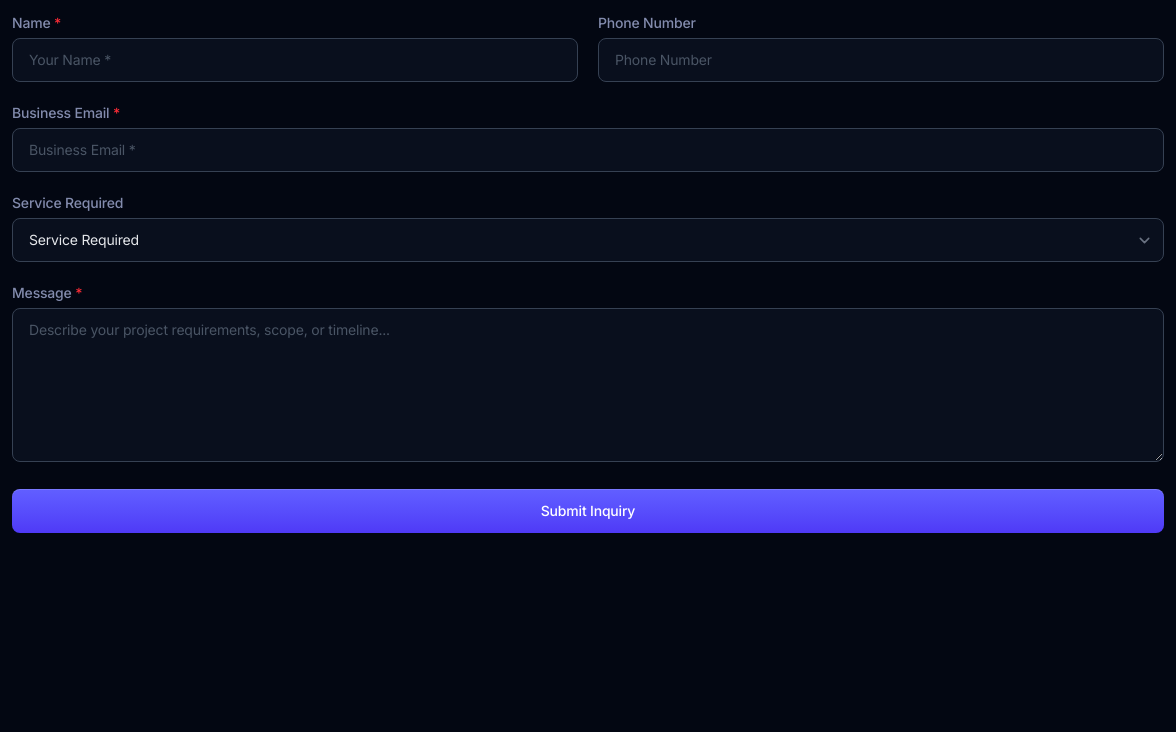
it: ContactForm › gửi hợp lệ: hiện câu cảm ơn, xoá form, không gọi alert
Type "Jane" into the field labelled "Name *" at (295, 60), box [12, 38, 578, 82]
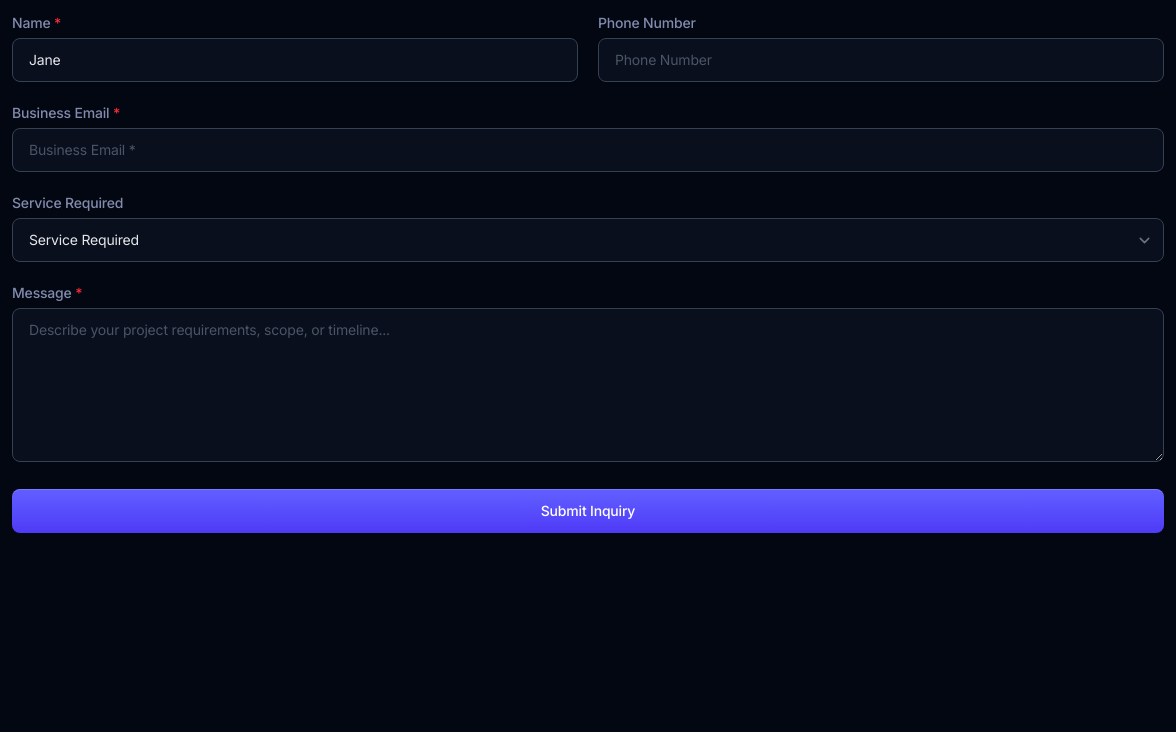
Type "+84 123" into the field labelled "Phone Number" at (881, 60), box [598, 38, 1164, 82]
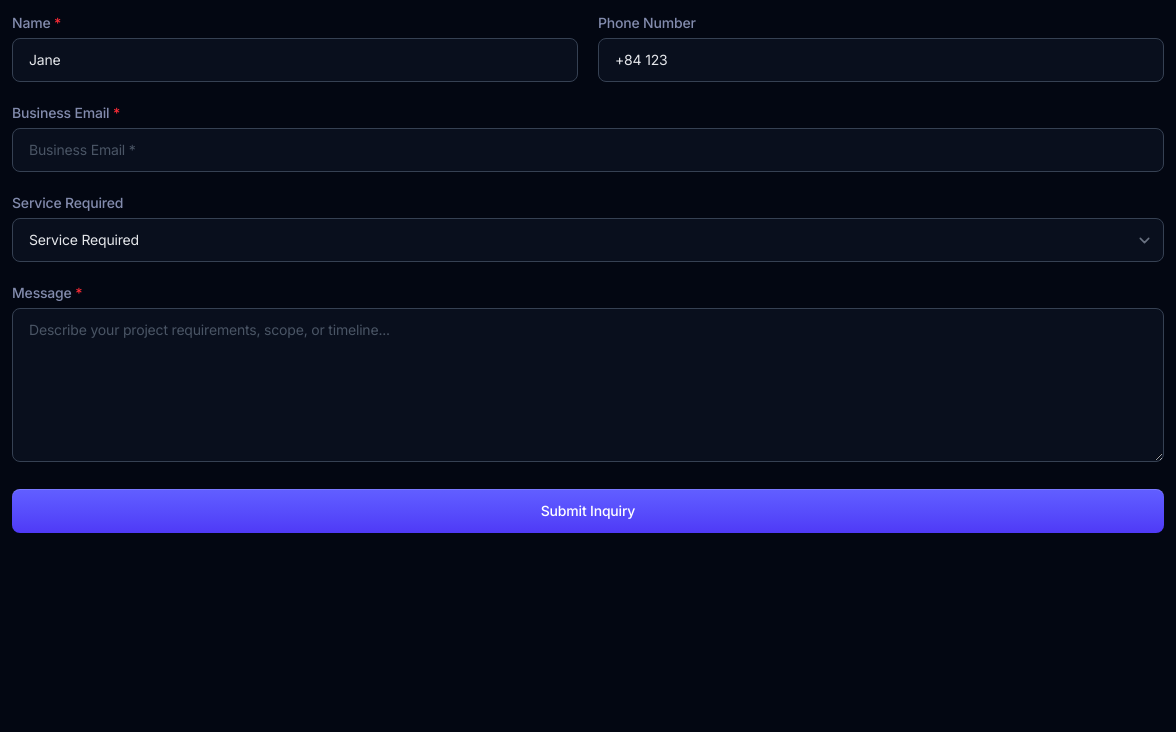
Type "jane@example.com" into the field labelled "Business Email *" at (588, 150), box [12, 128, 1164, 172]
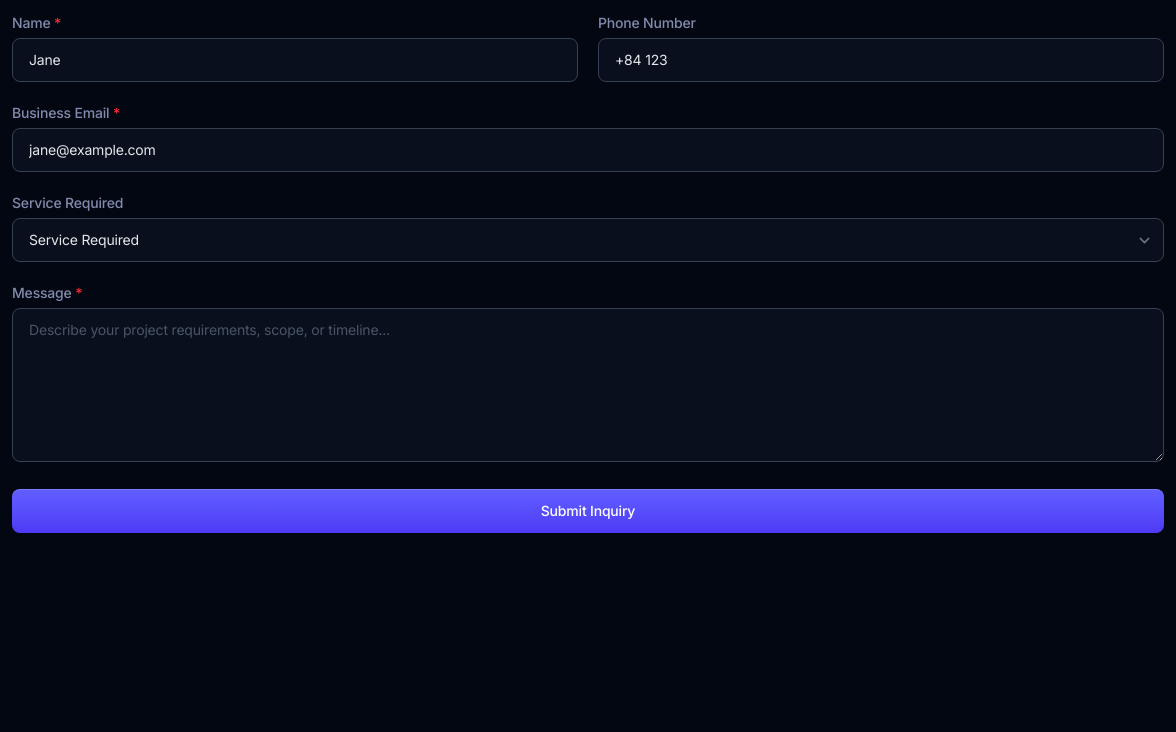
Select "Cloud Migration & DevOps" in the dropdown labelled "Service Required" at (588, 240), box [12, 218, 1164, 262]
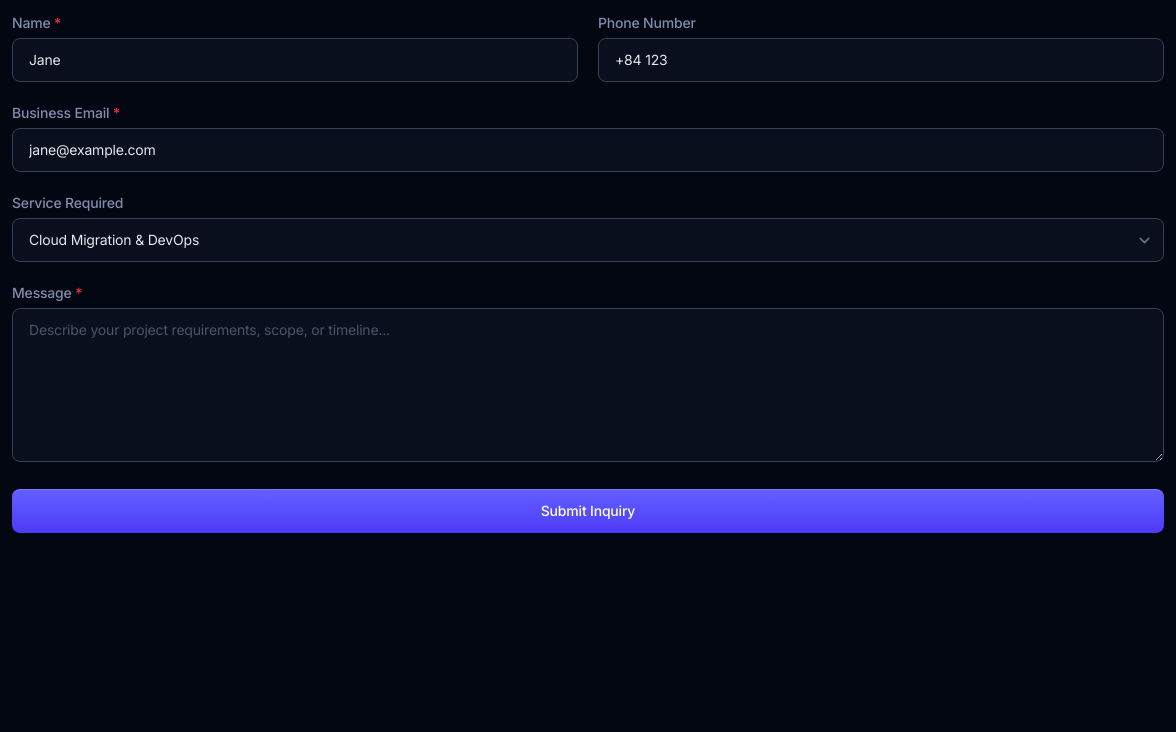
Type "Hello" into the text box labelled "Message *" at (588, 385), box [12, 308, 1164, 462]
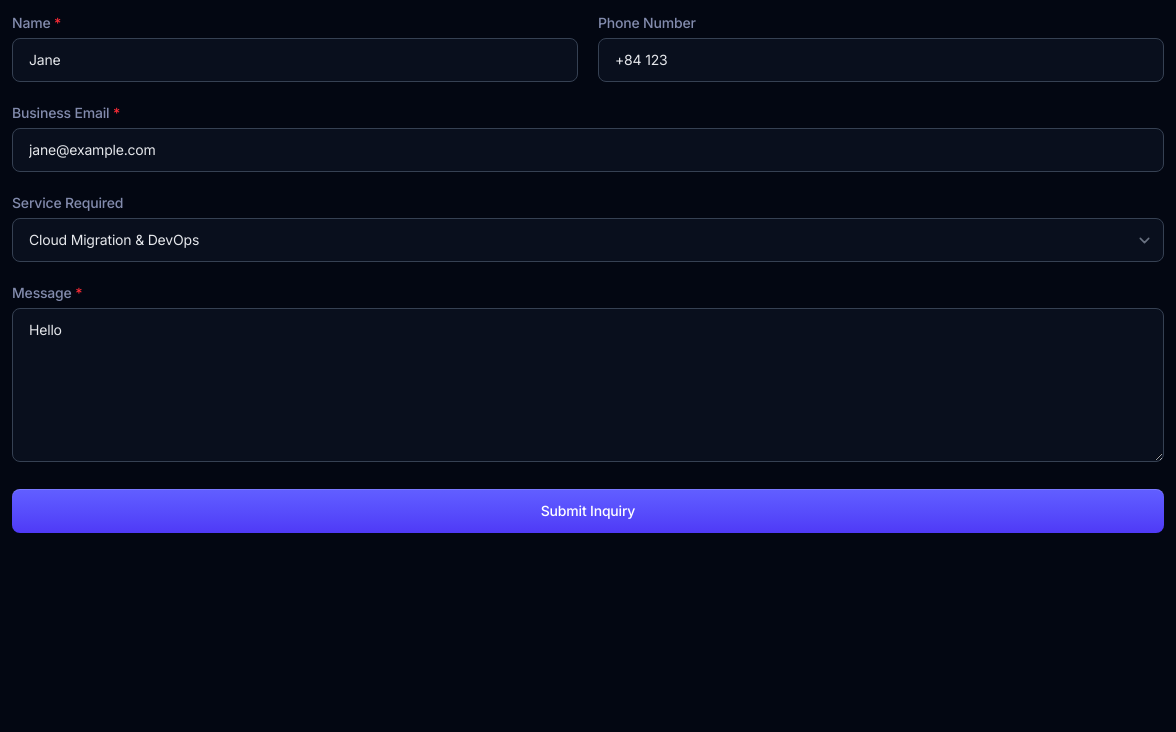
Click the button "Submit Inquiry" at (588, 511), box [12, 489, 1164, 533]
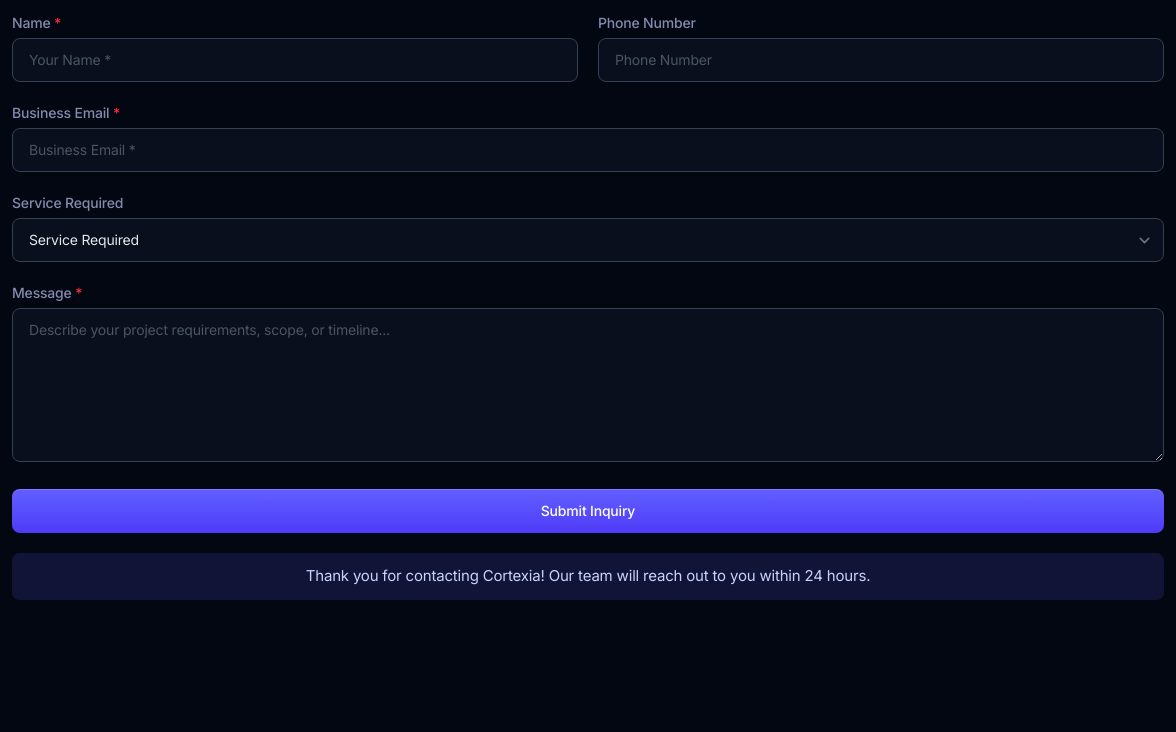
Check: the message shows "Thank you for contacting Cortexia! Our team will reach out to you within 24 hours.", box [306, 566, 870, 585]
Check: the field labelled "Name *" is empty, box [12, 38, 578, 82]
Check: the field labelled "Phone Number" is empty, box [598, 38, 1164, 82]
